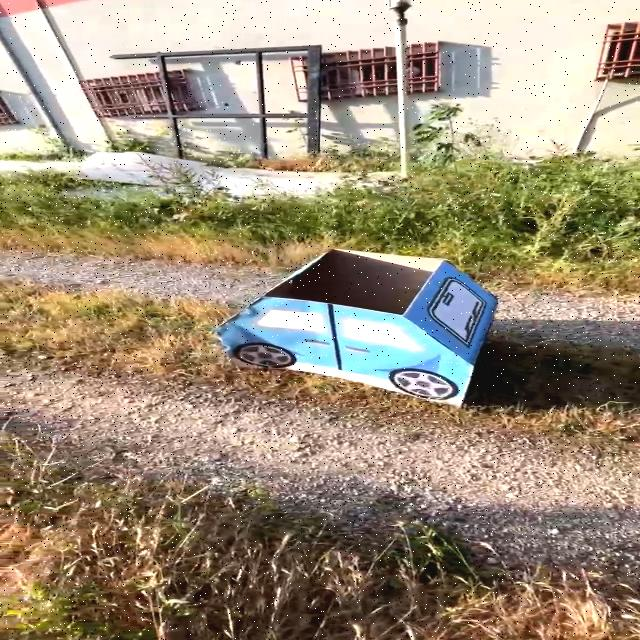blue_car: (164, 212, 582, 420)
